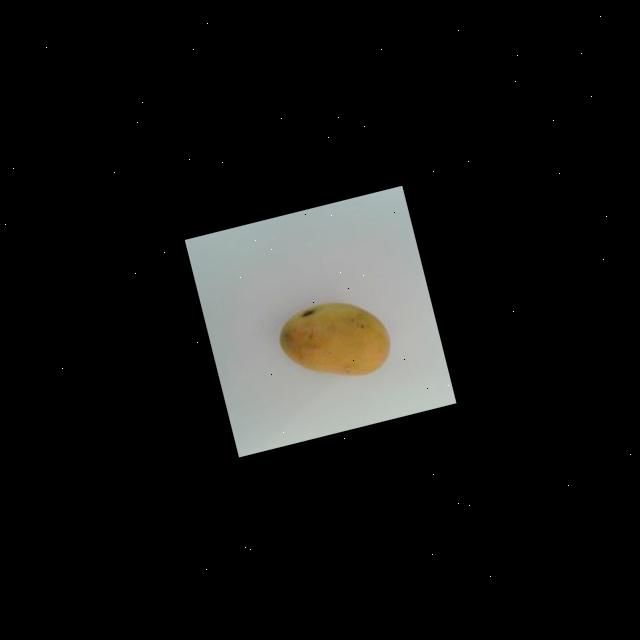Mango: (272, 287, 398, 391)
